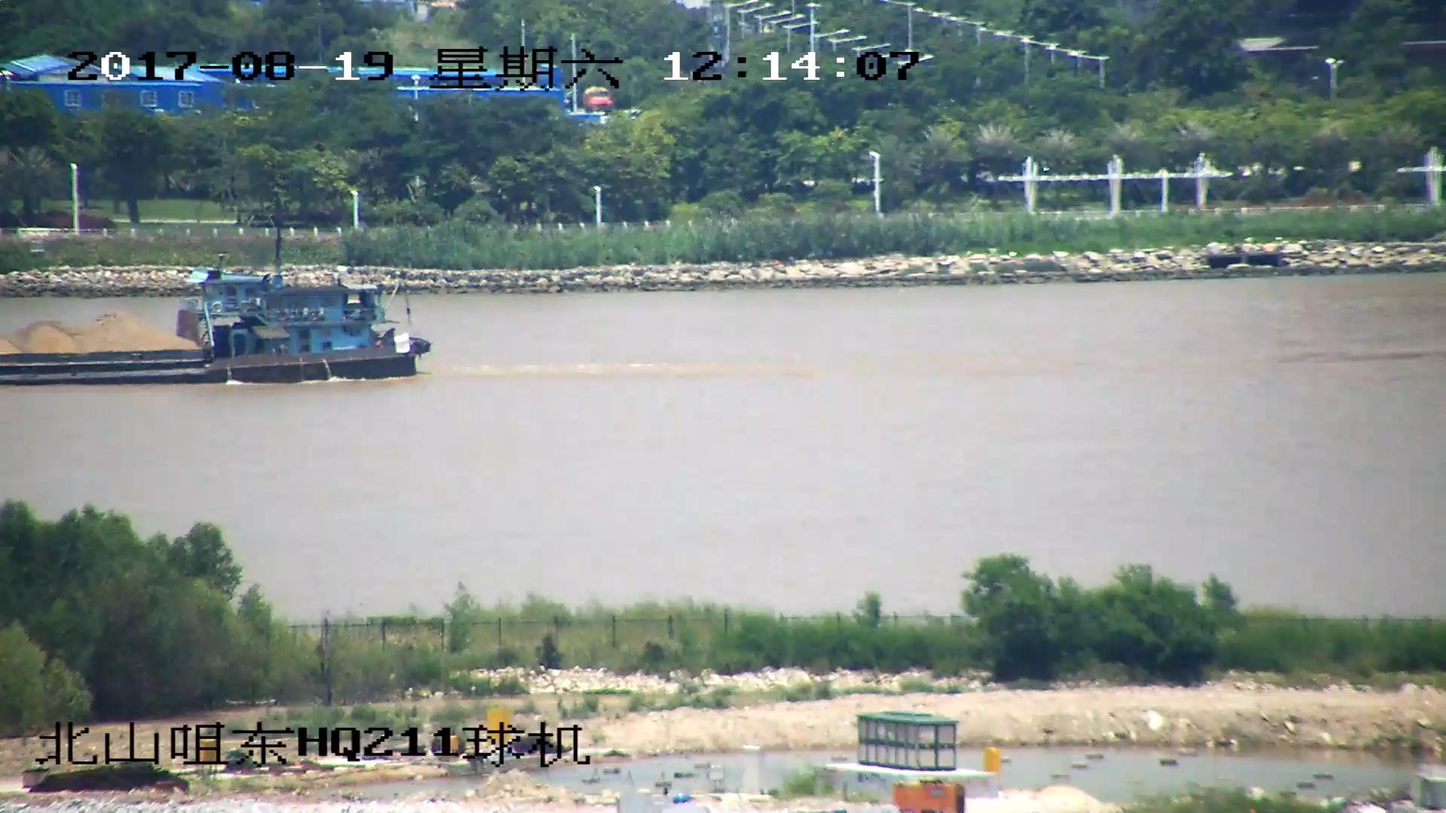ore carrier: (0, 243, 428, 383)
